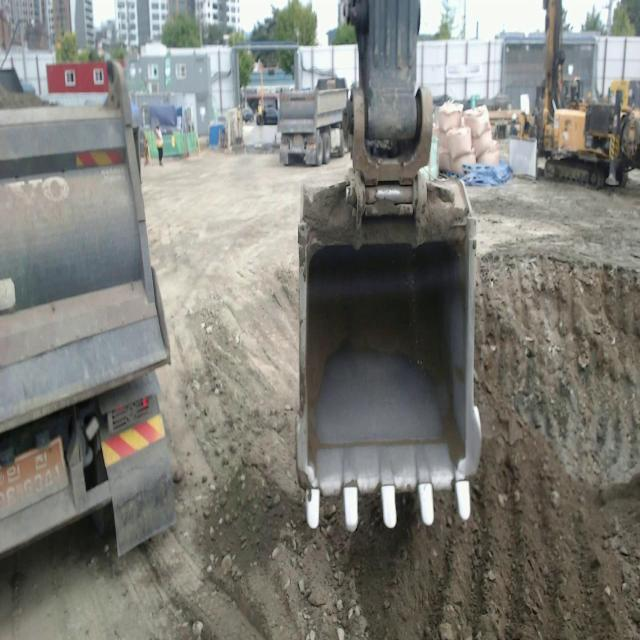red-sand: (200, 256, 640, 639)
white-sand: (0, 150, 349, 639)
